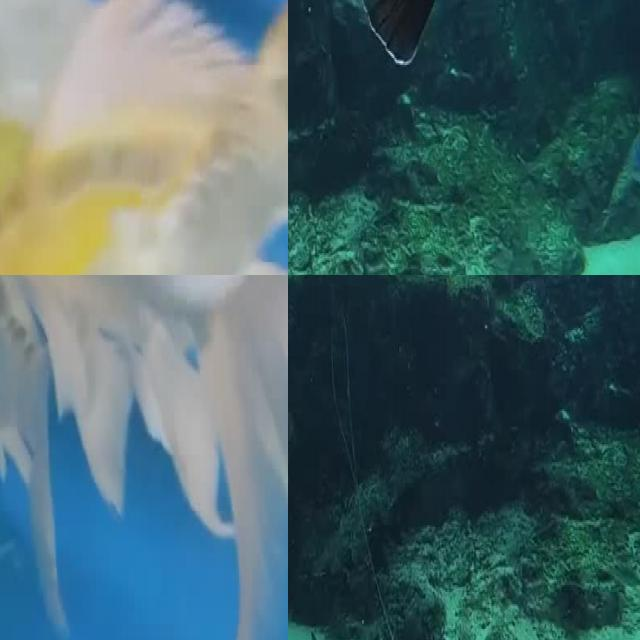fish: (0, 0, 288, 275), (0, 275, 68, 567)
